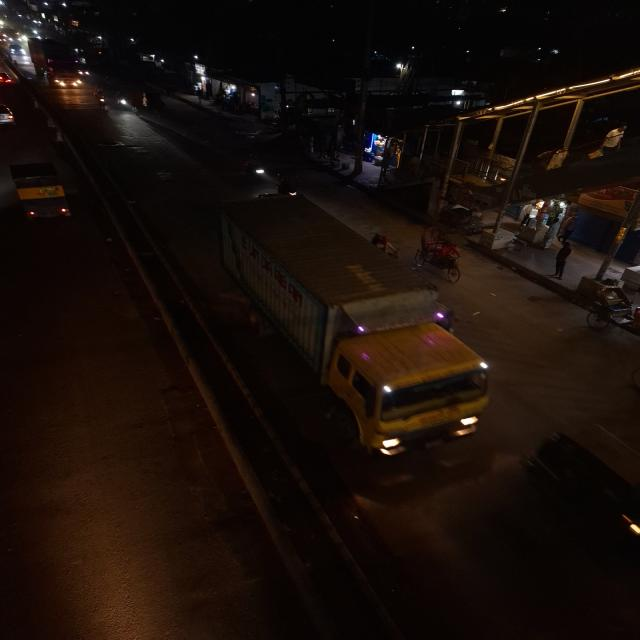bus: (29, 37, 88, 91)
car: (0, 101, 17, 127), (0, 70, 14, 86)
motorcycle: (240, 150, 270, 183), (114, 88, 130, 111), (94, 88, 110, 110)
rickshaw: (572, 271, 640, 340), (411, 223, 469, 284)
truck: (213, 198, 505, 460), (7, 158, 76, 225), (30, 38, 87, 91)
